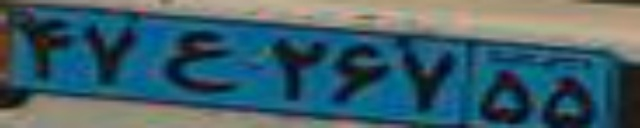2: (271, 38, 325, 103)
4: (22, 18, 72, 80)
5: (540, 75, 597, 127), (479, 68, 531, 124)
6: (331, 42, 389, 105)
7: (79, 23, 140, 84), (400, 47, 455, 111)
ain: (163, 28, 241, 94)
